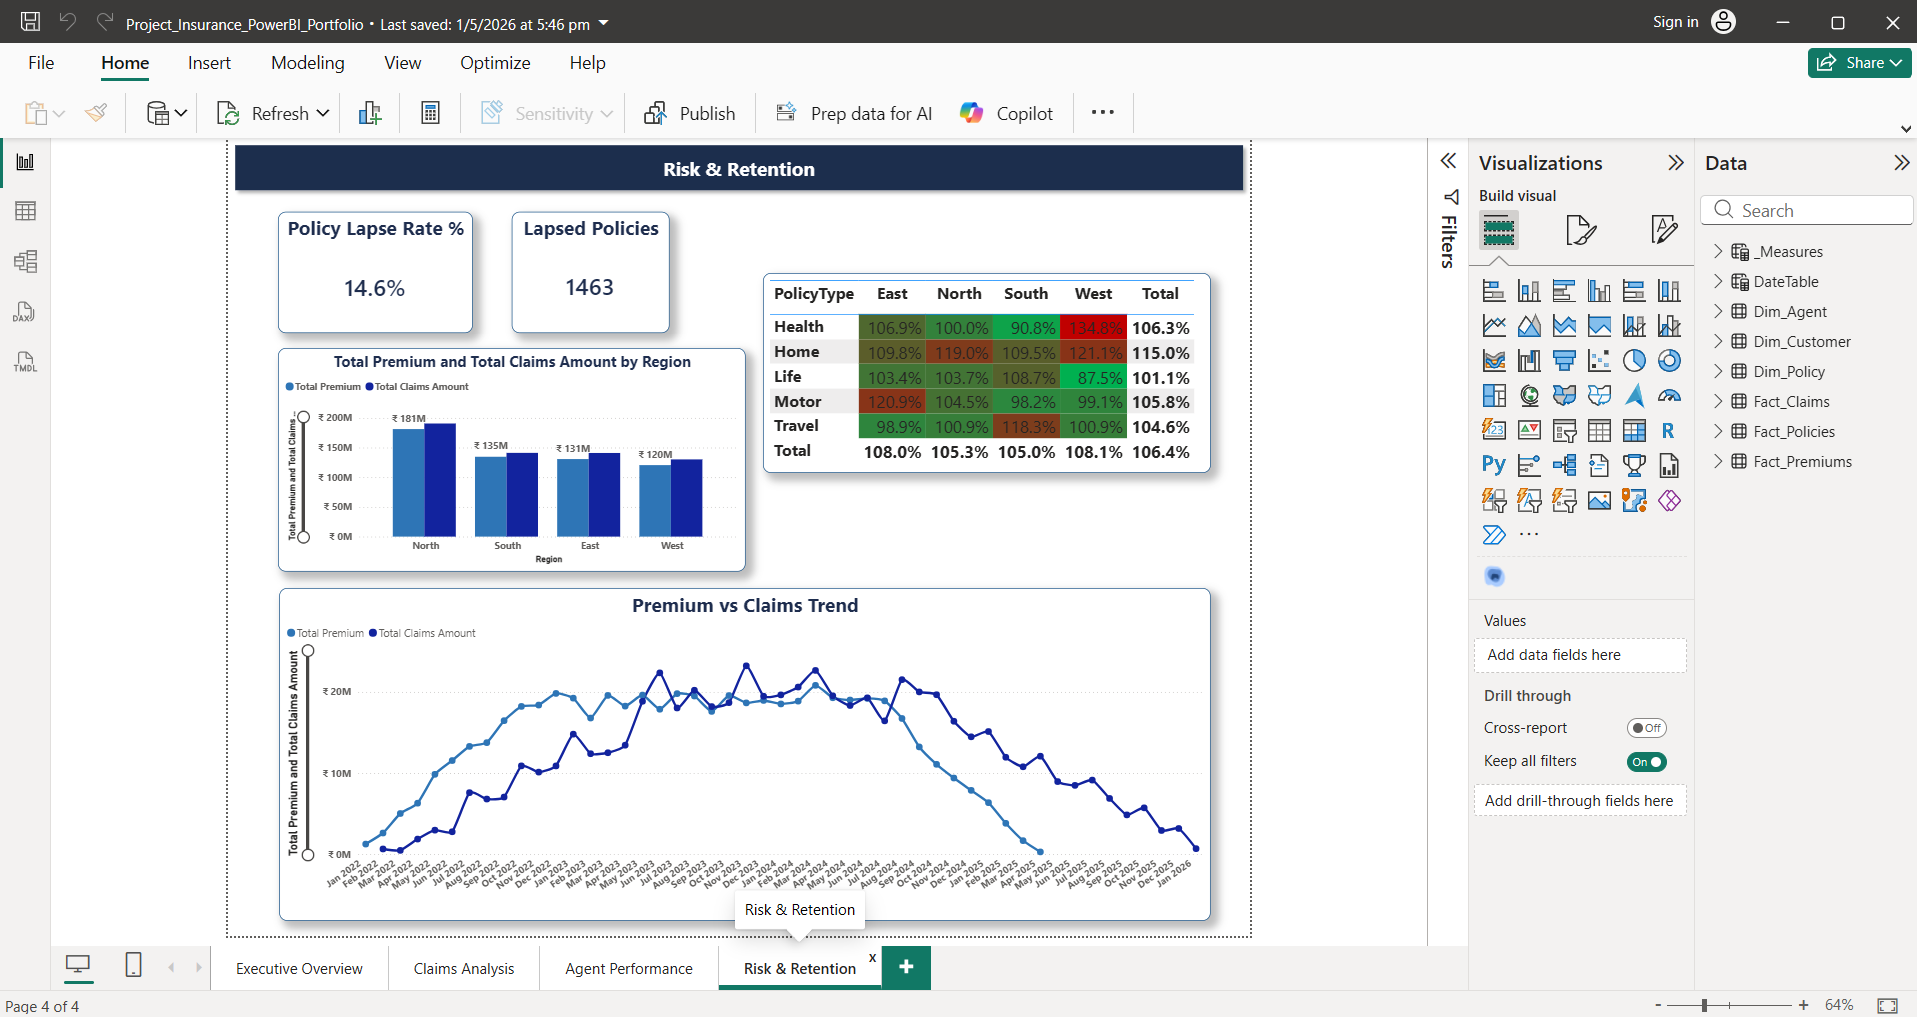

The page's visual inventory and layout, read from the dashboard file:
{"tool":"powerbi","page":{"name":" Risk & Retention","canvas":[1280,1000],"ordinal":3},"visuals":[{"type":"shape","box":[0,0,1280.2,74.4],"z":0},{"type":"cardVisual","title":"Policy Lapse Rate %","fields":{"Data":["_Measures.Policy Lapse Rate %"]},"box":[62.8,91.9,244.2,152.3],"z":1000},{"type":"cardVisual","title":"Lapsed Policies","fields":{"Data":["_Measures.Lapsed Policies"]},"box":[355.4,92.4,197.2,151.8],"z":2000},{"type":"clusteredColumnChart","fields":{"Category":["Dim_Agent.Region"],"Y":["_Measures.Total Premium","_Measures.Total Claims Amount"]},"box":[62.6,263,585.5,280.2],"z":3000},{"type":"pivotTable","fields":{"Rows":["Dim_Policy.PolicyType"],"Columns":["Dim_Agent.Region"],"Values":["_Measures.Loss Ratio %"]},"box":[670,169.1,560.4,250.5],"z":4000},{"type":"lineChart","title":"Premium vs Claims Trend","fields":{"Category":["DateTable.MonthName"],"Y":["_Measures.Total Premium","_Measures.Total Claims Amount"]},"box":[64.2,563.6,1166.3,416.4],"z":4001}]}

Visuals, with their boxes on the page's 1280x1000 design canvas (x1, y1, x2, y2). These are canvas units, not pixel positions in the 1917x1017 screenshot, which may show the page scaled, cropped or inside an application window:
shape: [x1=0, y1=0, x2=1280, y2=74]
"Policy Lapse Rate %" cardVisual: [x1=63, y1=92, x2=307, y2=244]
"Lapsed Policies" cardVisual: [x1=355, y1=92, x2=553, y2=244]
clusteredColumnChart - Dim_Agent.Region x _Measures.Total Premium: [x1=63, y1=263, x2=648, y2=543]
pivotTable - Dim_Policy.PolicyType x Dim_Agent.Region: [x1=670, y1=169, x2=1230, y2=420]
"Premium vs Claims Trend" lineChart: [x1=64, y1=564, x2=1230, y2=980]
